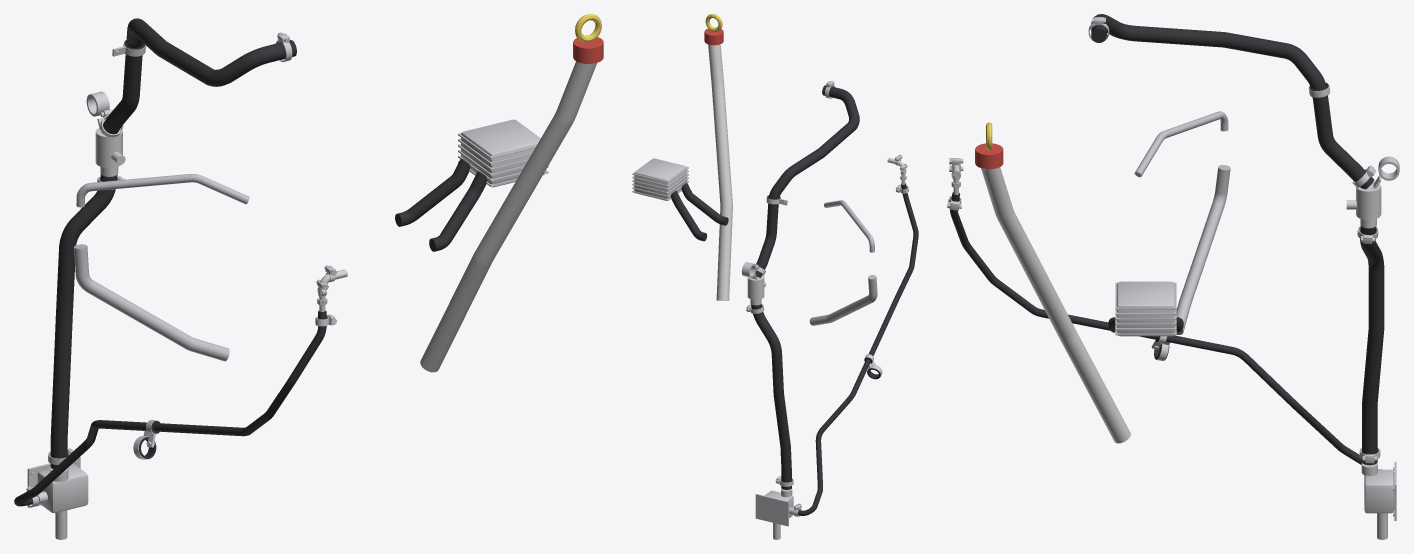
Rendered from da40-oil.glb.
3 renders of one model, left to right at view 1: azimuth 30°, elevation 25°; view 2: azimuth 150°, elevation 25°; view 3: azimuth 270°, elevation 25°, orthographic. The views are drawn at different scales.
Visible parts, largest first — view 1: Engine oil filler with dipstick, Crankcase breather hose, Crankcase breather hose to drain collector, Cylinder head drain hose, Engine oil cooler, Turbocharger oil return line, Engine drain collector, Turbocharger oil feed line, Breather bypass valve, Coolant hose to oil cooler, Coolant hose from oil cooler; view 2: Engine oil filler with dipstick, Crankcase breather hose, Cylinder head drain hose, Crankcase breather hose to drain collector, Engine oil cooler, Engine drain collector, Turbocharger oil return line, Breather bypass valve, Coolant hose from oil cooler, Coolant hose to oil cooler, Turbocharger oil feed line; view 3: Engine oil filler with dipstick, Crankcase breather hose, Crankcase breather hose to drain collector, Cylinder head drain hose, Engine oil cooler, Turbocharger oil return line, Engine drain collector, Breather bypass valve, Turbocharger oil feed line.
Boxes of the visible parts, box(x1,y1,x2,y2) form: Engine oil filler with dipstick: box(420, 14, 603, 372); Crankcase breather hose: box(100, 18, 296, 137); Crankcase breather hose to drain collector: box(48, 174, 124, 469); Cylinder head drain hose: box(14, 310, 336, 507); Engine oil cooler: box(458, 119, 548, 187); Turbocharger oil return line: box(74, 244, 229, 361); Engine drain collector: box(27, 457, 88, 539); Turbocharger oil feed line: box(76, 174, 249, 207); Breather bypass valve: box(86, 91, 125, 176); Coolant hose to oil cooler: box(395, 158, 470, 226); Coolant hose from oil cooler: box(429, 171, 487, 251); Engine oil filler with dipstick: box(704, 14, 732, 300); Crankcase breather hose: box(753, 81, 859, 277); Cylinder head drain hose: box(793, 183, 918, 516); Crankcase breather hose to drain collector: box(746, 304, 793, 489); Engine oil cooler: box(632, 158, 688, 200); Engine drain collector: box(755, 488, 794, 539); Turbocharger oil return line: box(809, 275, 877, 325); Breather bypass valve: box(741, 262, 766, 305); Coolant hose from oil cooler: box(681, 183, 728, 225); Coolant hose to oil cooler: box(670, 190, 706, 241); Turbocharger oil feed line: box(824, 200, 874, 252); Engine oil filler with dipstick: box(975, 122, 1130, 443); Crankcase breather hose: box(1088, 14, 1375, 189); Crankcase breather hose to drain collector: box(1357, 225, 1384, 465); Cylinder head drain hose: box(947, 192, 1382, 469); Engine oil cooler: box(1115, 281, 1176, 336); Turbocharger oil return line: box(1176, 165, 1230, 334); Engine drain collector: box(1361, 462, 1396, 539); Breather bypass valve: box(1346, 156, 1399, 228); Turbocharger oil feed line: box(1134, 111, 1228, 177).
Size of the model in its own units: 0.562 by 0.781 by 0.577.
